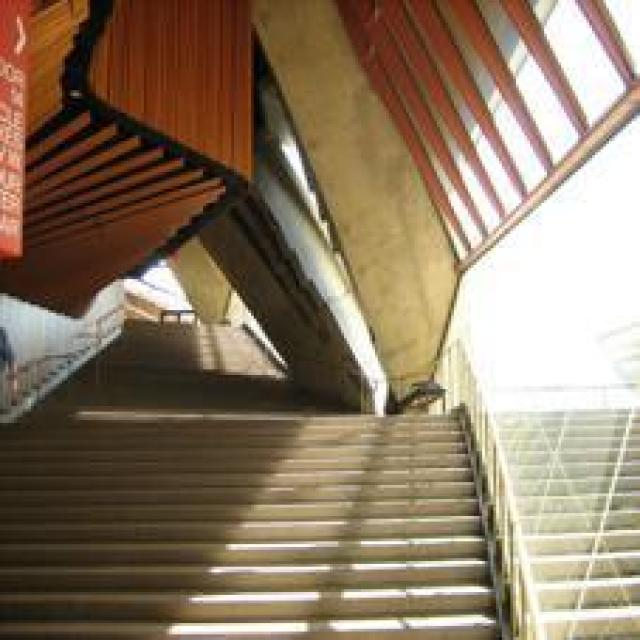upstair: (52, 480, 415, 638)
